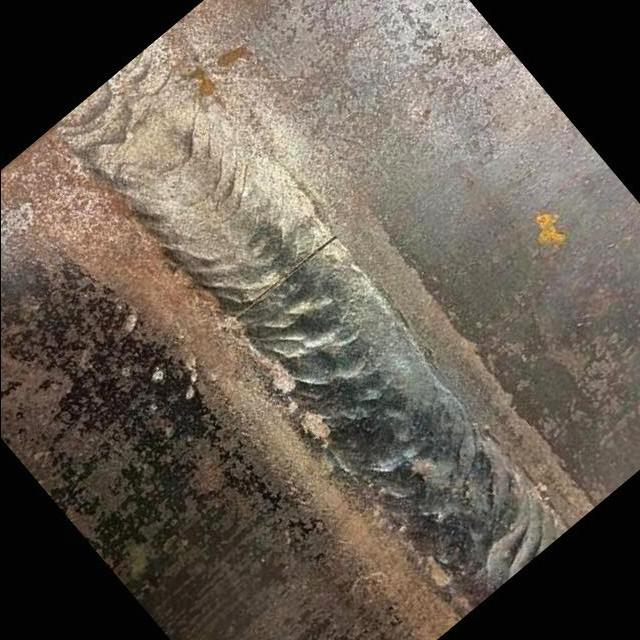defect: (229, 230, 343, 327)
